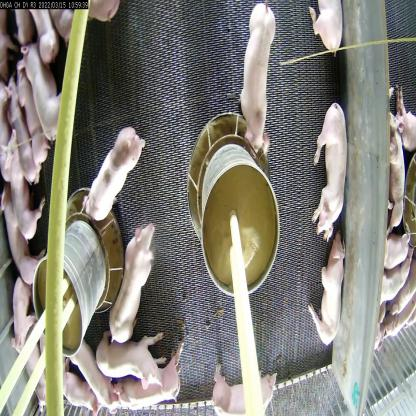Pig: (84, 125, 147, 224), (239, 0, 277, 157), (92, 324, 169, 396), (315, 98, 351, 236), (111, 233, 159, 336), (113, 353, 191, 416), (312, 242, 355, 354), (9, 59, 50, 174), (5, 138, 45, 247), (209, 355, 277, 415), (21, 44, 64, 136), (0, 197, 38, 300), (70, 336, 111, 411), (5, 270, 36, 360), (58, 359, 94, 415)
